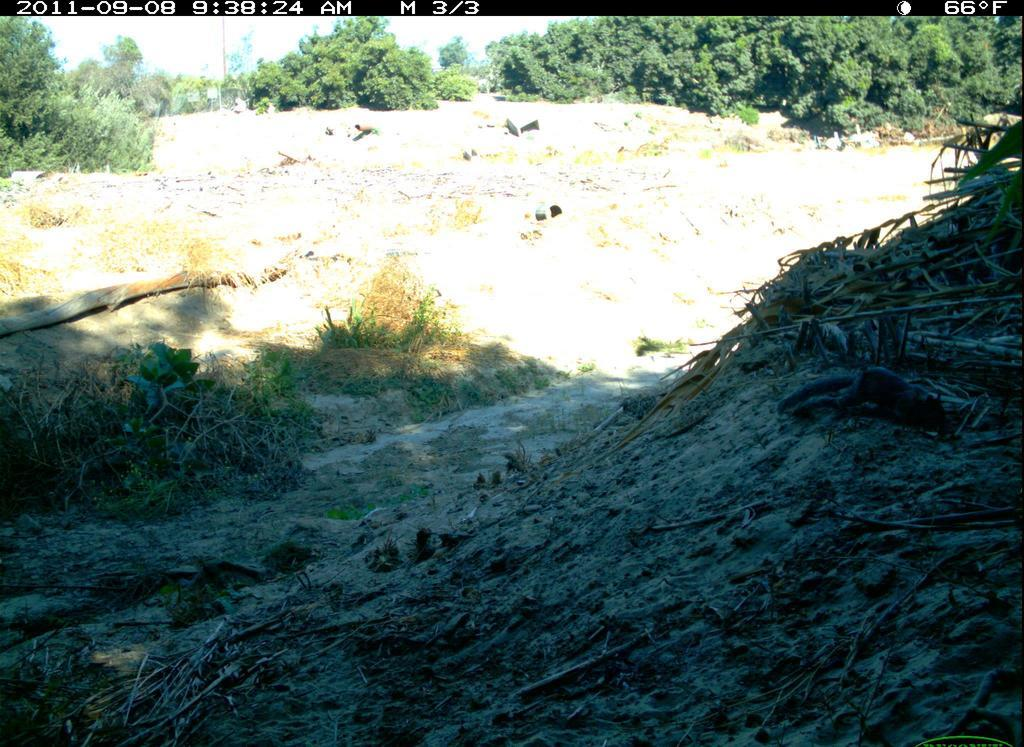squirrel: (774, 359, 953, 443)
